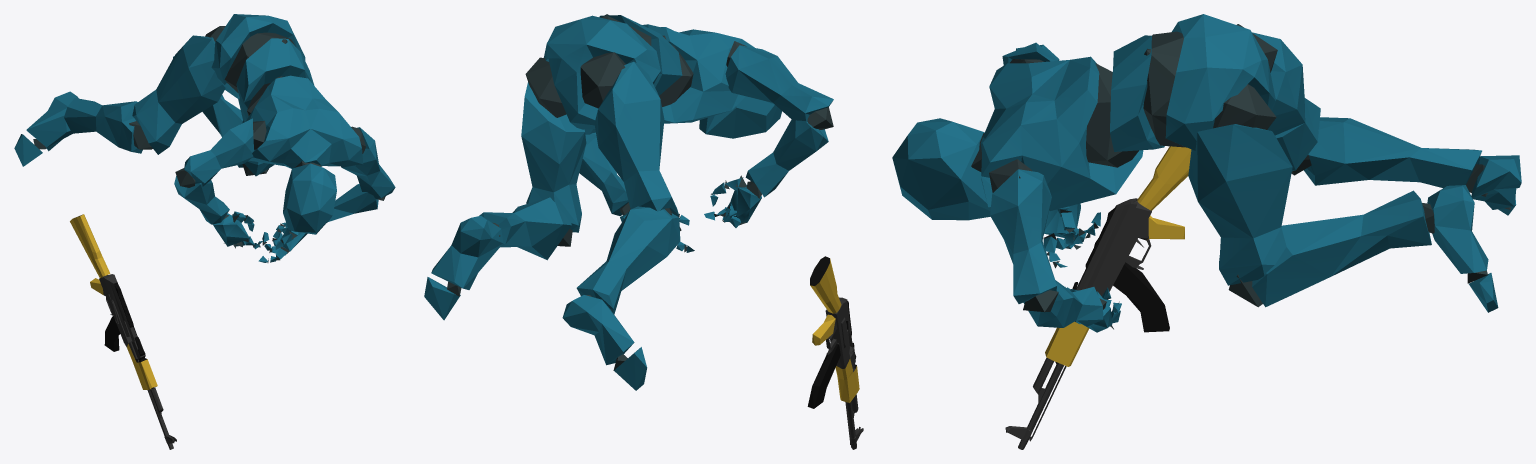
The model's file is EnemyDying_000049.obj.
3 views of the same model, side by side, from view 1: azimuth 30°, elevation 25°; view 2: azimuth 150°, elevation 25°; view 3: azimuth 270°, elevation 25° (orthographic). The views are drawn at different scales.
Parts seen in each view (by area): view 1: Alpha_Surface, AK-47_Cube, Alpha_Joints; view 2: Alpha_Surface, Alpha_Joints, AK-47_Cube; view 3: Alpha_Surface, AK-47_Cube, Alpha_Joints.
Part boxes in pixels (<box>): Alpha_Surface: <box>14,14,395,262</box>; AK-47_Cube: <box>70,214,176,449</box>; Alpha_Joints: <box>33,26,385,262</box>; Alpha_Surface: <box>424,15,833,390</box>; Alpha_Joints: <box>447,14,833,370</box>; AK-47_Cube: <box>807,256,863,449</box>; Alpha_Surface: <box>892,14,1521,332</box>; AK-47_Cube: <box>1005,146,1191,449</box>; Alpha_Joints: <box>971,24,1510,329</box>.
Bounding box in the file's own units: 203 × 260 × 277.
